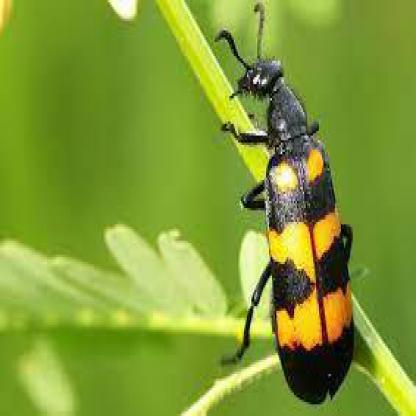blister beetle: (221, 12, 354, 409)
